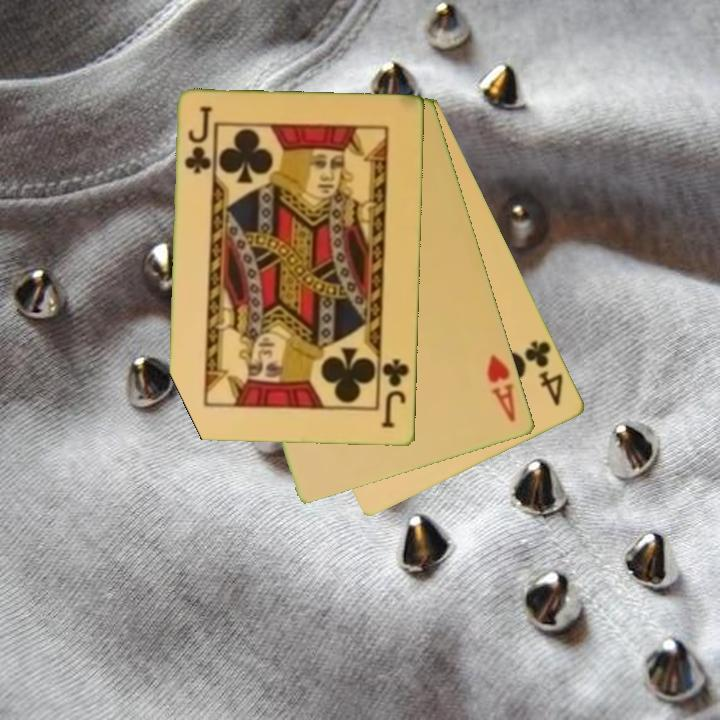4c: (521, 337, 567, 409)
Ah: (483, 351, 519, 426)
Jc: (379, 356, 413, 432), (181, 103, 215, 177)
